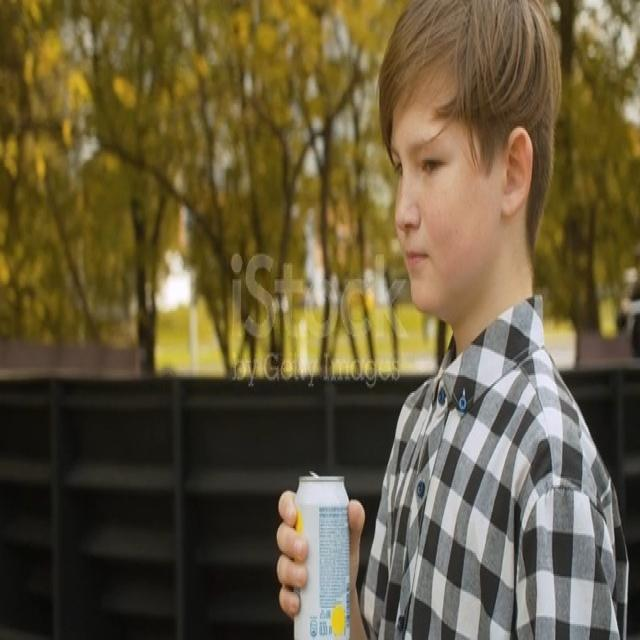can: (295, 472, 352, 640)
